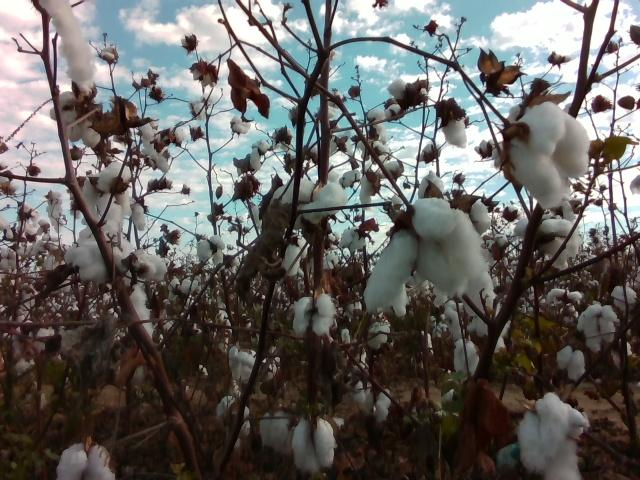cotton_ready: (363, 198, 486, 312), (509, 102, 591, 205), (516, 394, 590, 480), (37, 0, 96, 82), (76, 162, 132, 234), (464, 270, 510, 354), (514, 216, 581, 269), (274, 179, 349, 224), (48, 90, 104, 147), (65, 245, 131, 284), (291, 420, 337, 473), (55, 442, 119, 480), (577, 304, 619, 357), (260, 410, 302, 459), (292, 294, 337, 335), (141, 117, 171, 173), (217, 397, 249, 449), (273, 234, 310, 278), (128, 286, 156, 341), (454, 199, 489, 237), (385, 79, 429, 108), (131, 250, 168, 282), (229, 345, 259, 381), (443, 113, 468, 149), (417, 170, 446, 200), (197, 234, 225, 264)
